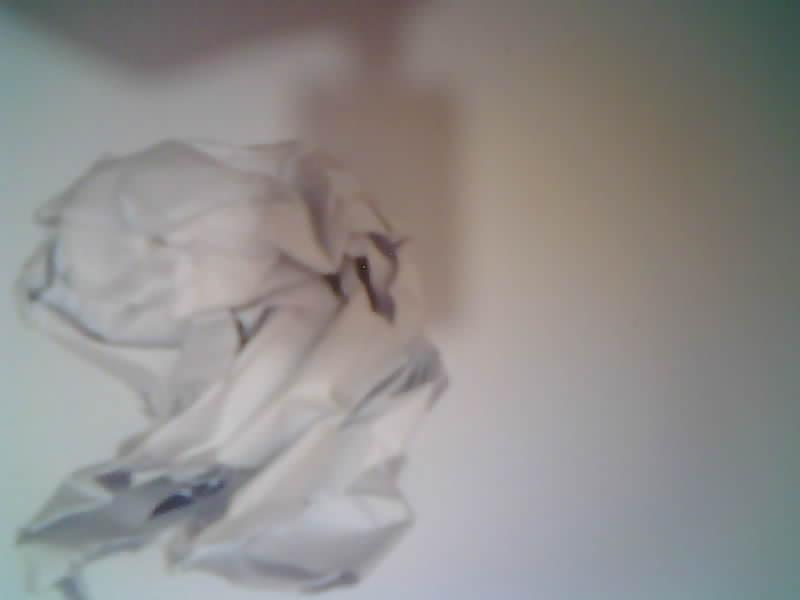biodegradable: (16, 142, 447, 599)
